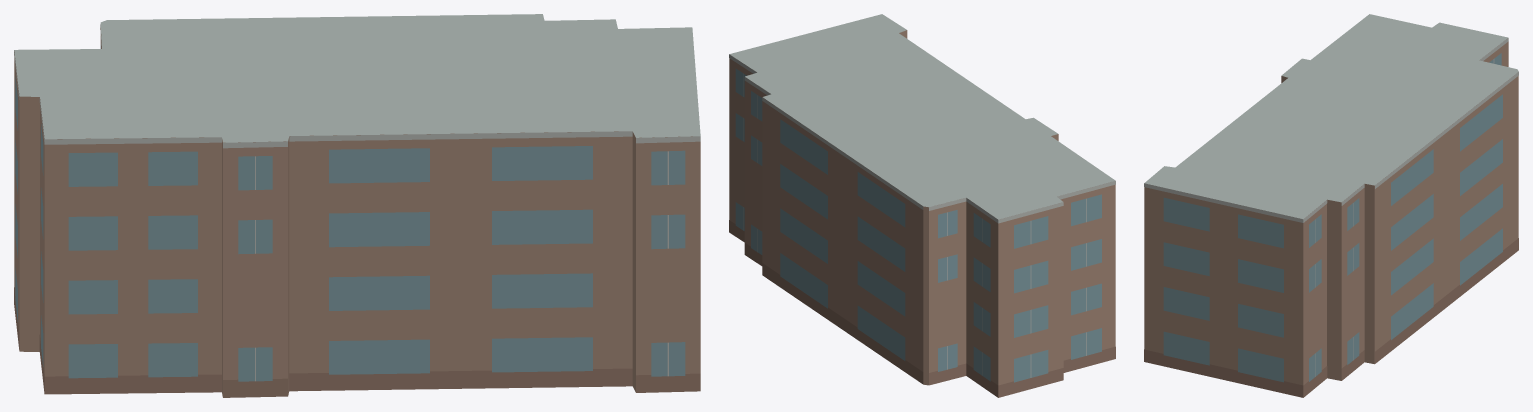
File: survey-upis-32712468.glb
The picture shows the model from 3 angles, left to right: view 1: azimuth 30°, elevation 25°; view 2: azimuth 150°, elevation 25°; view 3: azimuth 270°, elevation 25°; orthographic projection. The views are drawn at different scales.
Parts seen in each view (by area): view 1: survey-upis-32712468.tmp; view 2: survey-upis-32712468.tmp; view 3: survey-upis-32712468.tmp.
Part boxes in pixels (x1=…): survey-upis-32712468.tmp: x1=14, y1=14, x2=700, y2=397; survey-upis-32712468.tmp: x1=729, y1=14, x2=1115, y2=397; survey-upis-32712468.tmp: x1=1144, y1=14, x2=1518, y2=397.
Bounding box in the file's own units: 27.97 × 11.35 × 21.58.
